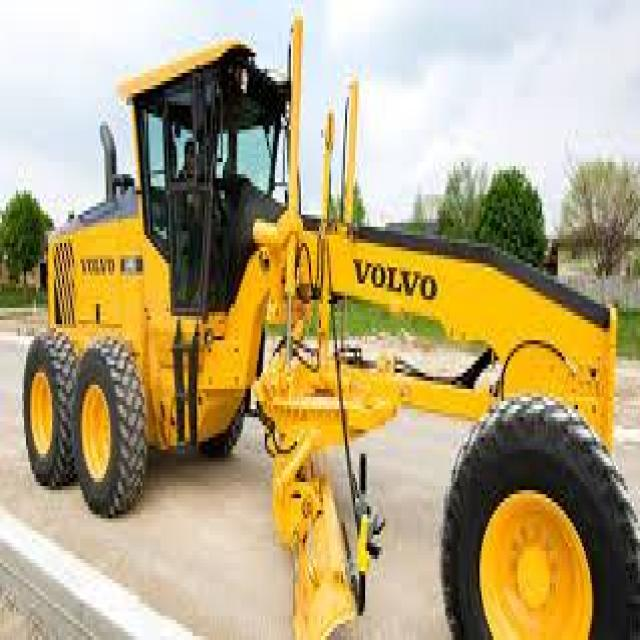buldozerpayloadergrader: (18, 36, 632, 636)
